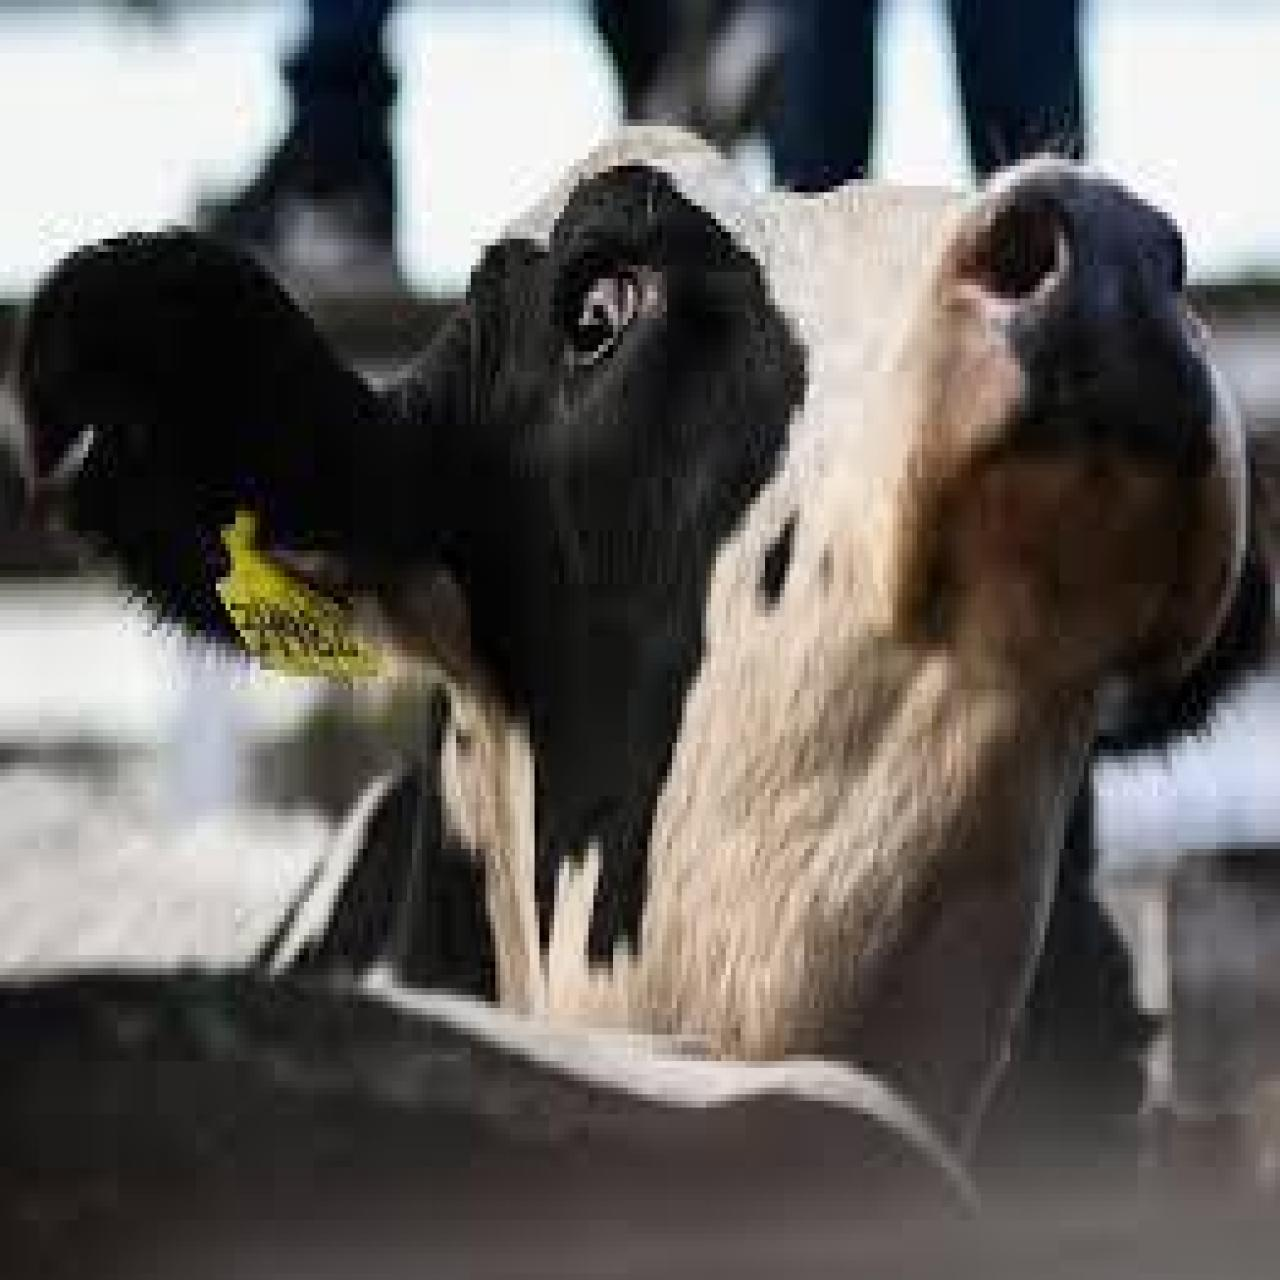cow: (18, 120, 1258, 1280)
